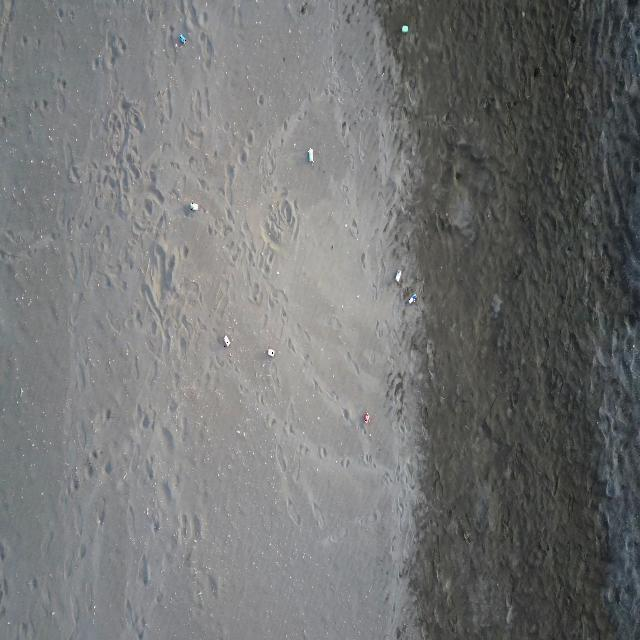tin-and-aluminum-cans: (220, 335, 230, 348), (395, 268, 402, 283), (401, 23, 409, 35), (188, 202, 198, 211), (308, 147, 314, 162), (409, 293, 417, 304), (268, 347, 276, 358), (179, 34, 187, 44), (364, 412, 370, 424)
